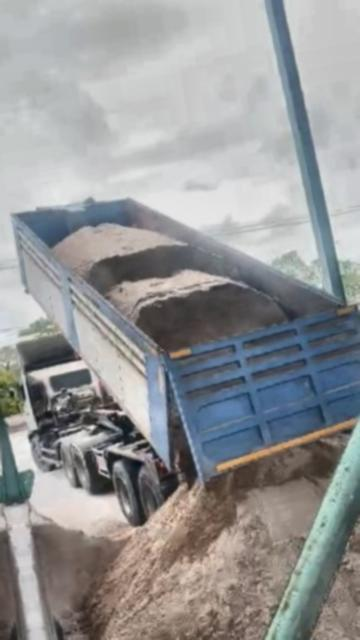sand: (87, 443, 341, 640), (53, 224, 288, 350), (32, 514, 132, 640), (296, 452, 360, 640), (172, 406, 195, 480)
